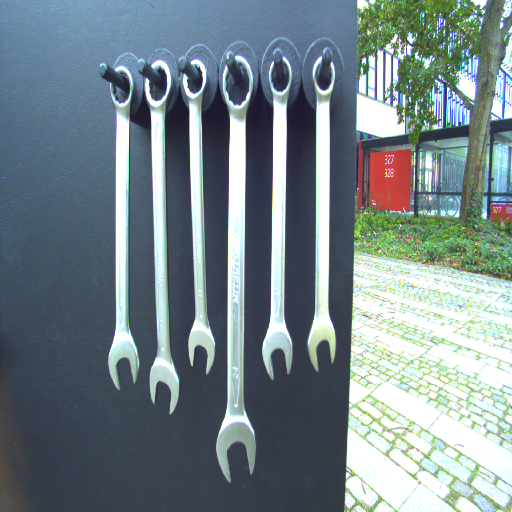bottom: (215, 412, 257, 483), (258, 321, 296, 380), (146, 358, 183, 418), (105, 334, 141, 392), (184, 322, 217, 377), (306, 316, 338, 371)
top: (222, 53, 254, 117), (103, 63, 135, 114), (143, 58, 172, 113), (310, 54, 337, 106), (268, 53, 294, 103), (181, 57, 209, 103)
